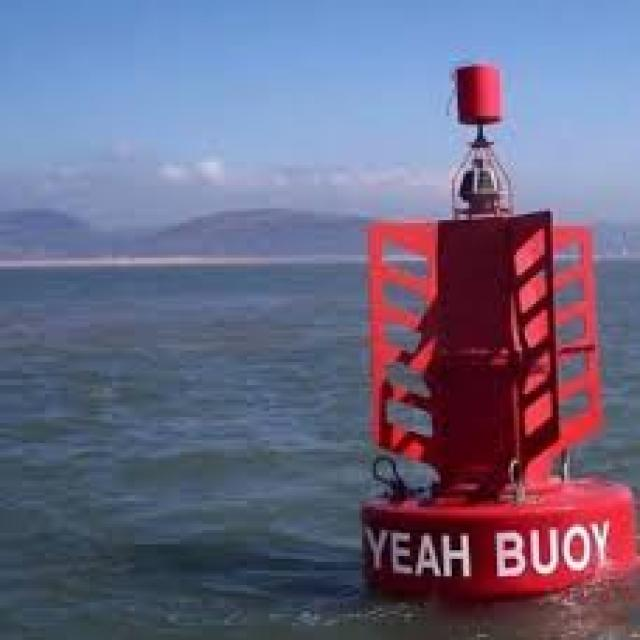buoy: (352, 33, 640, 612)
